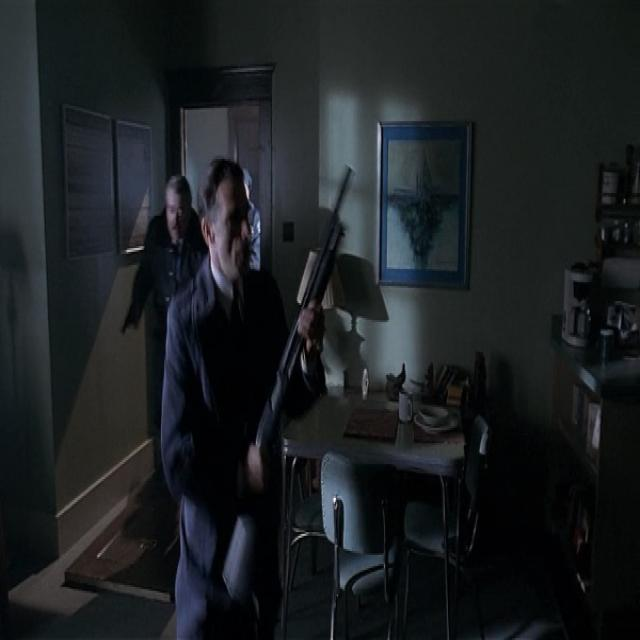rifle: (219, 163, 356, 608)
